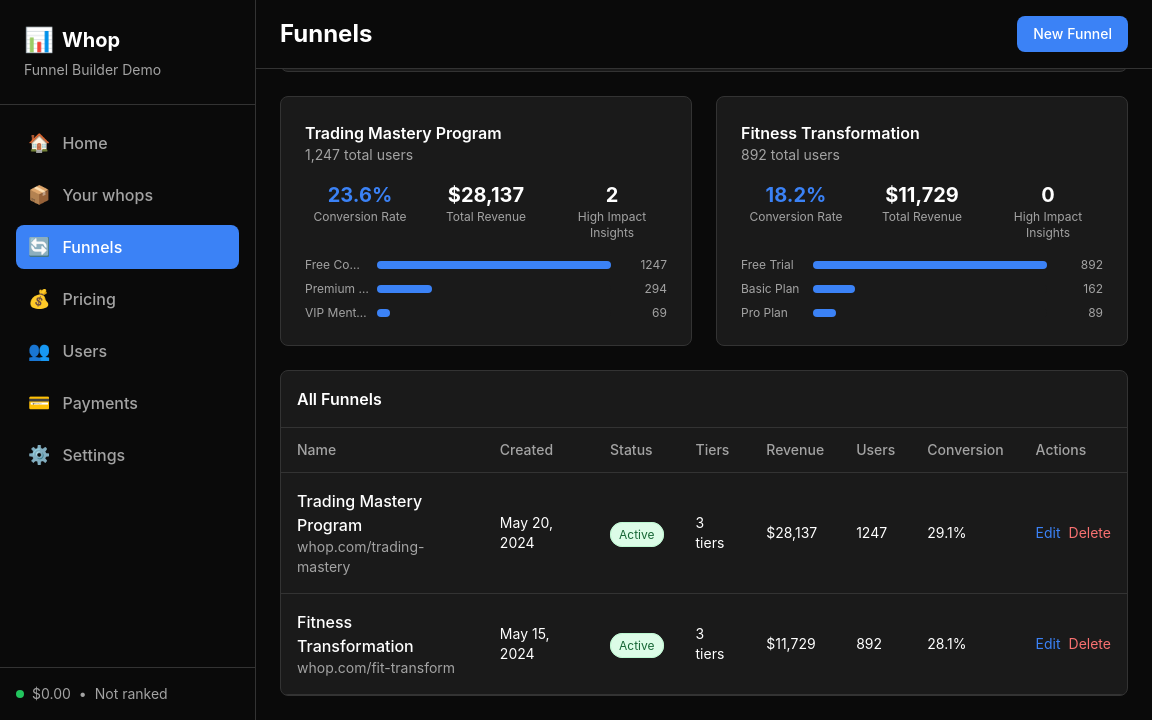
it: App Integration Tests › edits existing funnel
This screenshot has width=1152, height=720.
(page scrolled)
// Click edit on first funnel
Click the button "Edit" in the row of "whop.com/trading-mastery": x=1048, y=533 [1036, 523, 1061, 543]
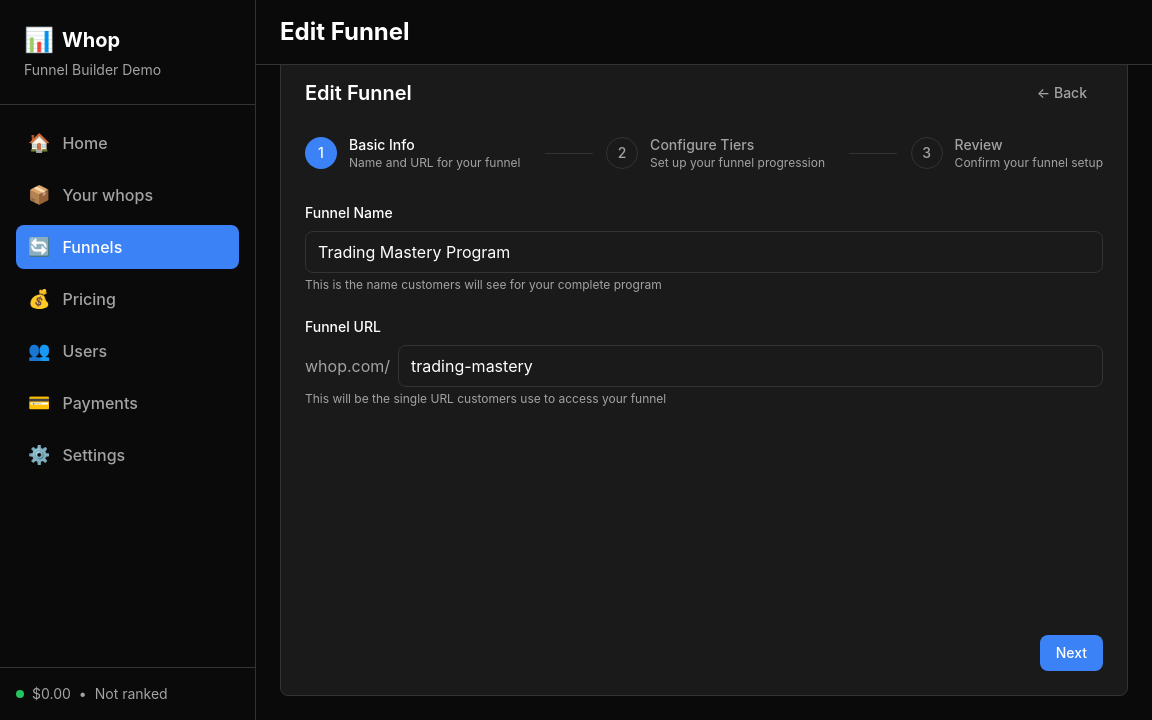
Check: the 1st heading "Edit Funnel" is shown, box [280, 16, 410, 48]
Check: the field showing "Trading Mastery Program" below "Funnel Name" is shown, box [305, 231, 1103, 273]
